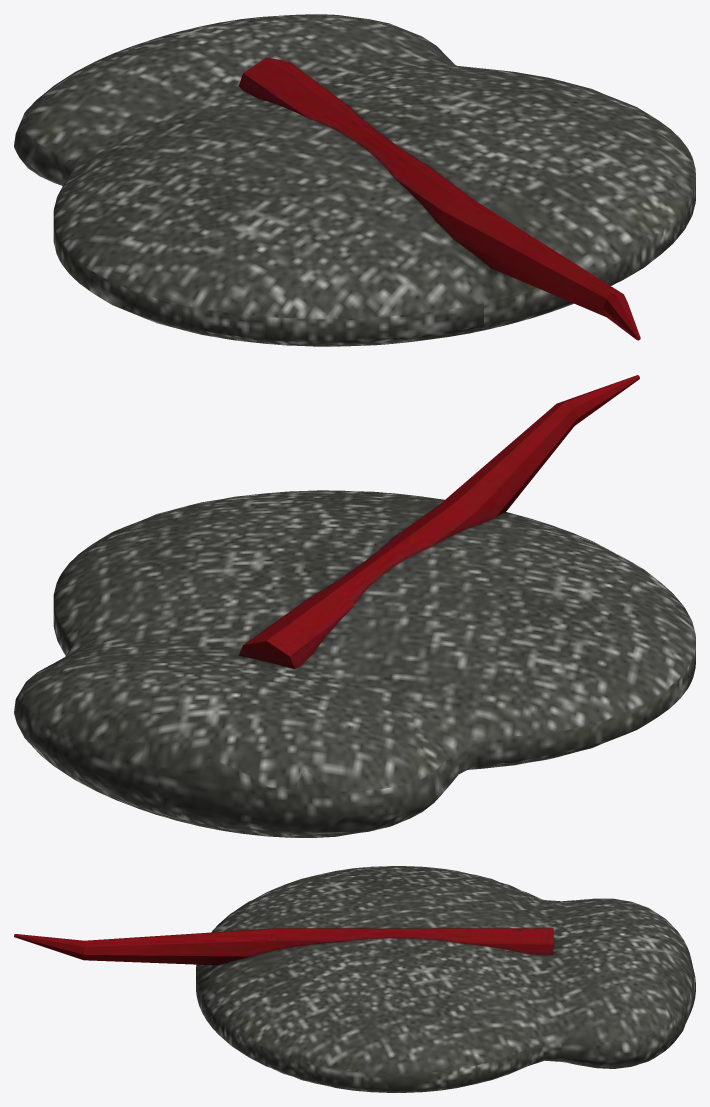
File: satha_jaw.glb
3 views of the same model, one above another, from view 1: azimuth 30°, elevation 25°; view 2: azimuth 150°, elevation 25°; view 3: azimuth 270°, elevation 25° (orthographic). The views are drawn at different scales.
Visible parts, largest first — view 1: satha_jaw, tongue; view 2: satha_jaw, tongue; view 3: satha_jaw, tongue.
Part boxes in pixels (x1,y1,x2,y2): satha_jaw: (14, 14, 695, 346); tongue: (238, 57, 640, 340); satha_jaw: (14, 490, 695, 837); tongue: (238, 375, 639, 669); satha_jaw: (196, 866, 695, 1092); tongue: (14, 928, 553, 965).
Bounding box in the file's own units: 1.4 × 0.319 × 1.96.
Materials: 2 (2 with a texture image).
